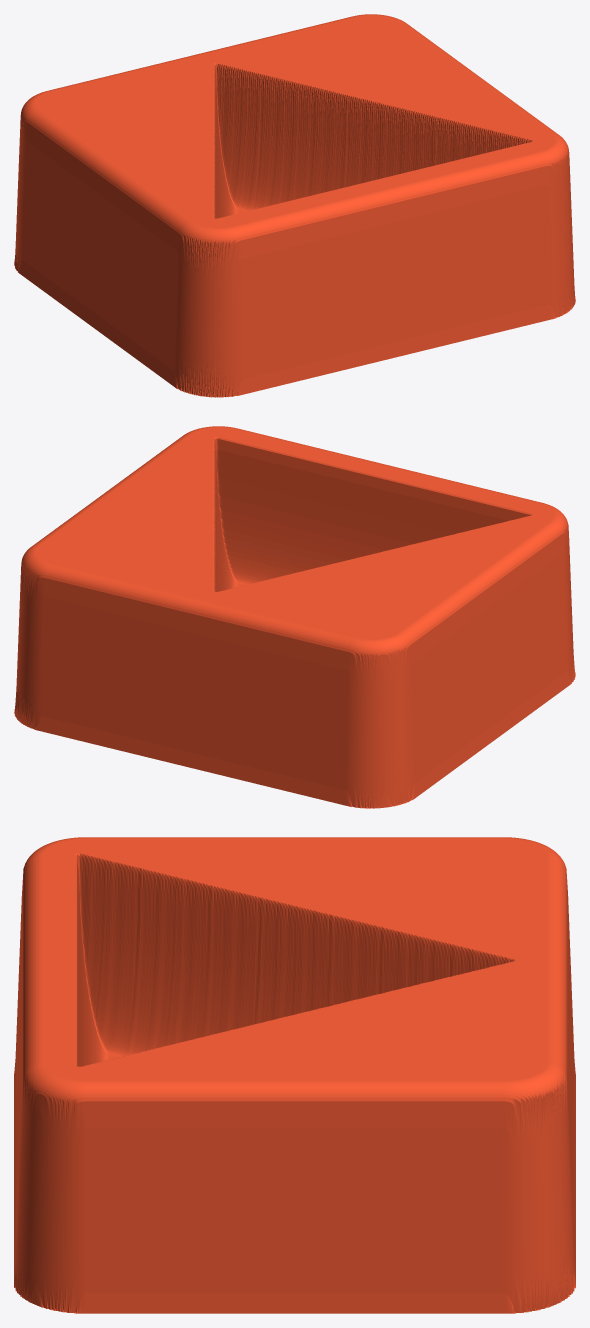
File: mold.glb
The picture shows the model from 3 angles, top to bottom: view 1: azimuth 30°, elevation 25°; view 2: azimuth 150°, elevation 25°; view 3: azimuth 270°, elevation 25°; orthographic projection. The views are drawn at different scales.
Visible parts, largest first — view 1: geometry_0; view 2: geometry_0; view 3: geometry_0.
Part boxes in pixels (x1,y1,x2,y2): geometry_0: (14, 14, 575, 397); geometry_0: (14, 426, 575, 808); geometry_0: (14, 837, 575, 1313).
Size of the model in its own units: 0.0798 by 0.031 by 0.0714.
